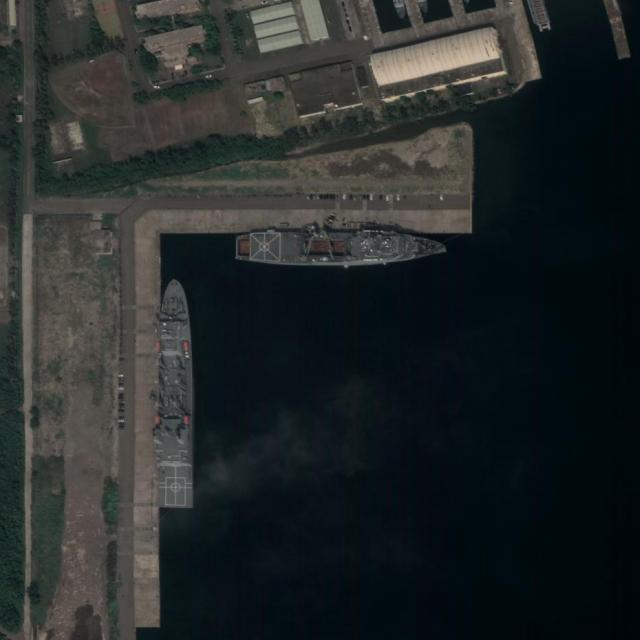Commander: (158, 279, 196, 512)
Other Warship: (235, 229, 452, 267)
